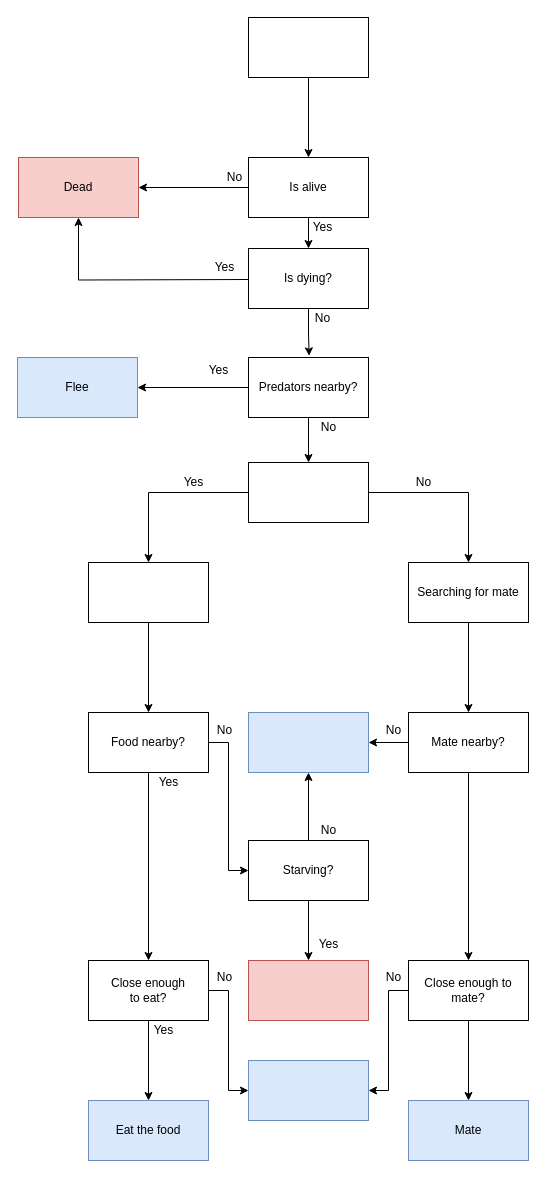
The diagram is 546 pixels wide and 1178 high, and some of its shapes have lost their labels. The centre of each missing label's shape, as x and y in pixels:
"Dying" goes at (308,990).
"Freeroam" goes at (308,742).
"Hunting" goes at (148,592).
"Is hungry?" goes at (308,492).
"Move towards" goes at (308,1090).
"Round Start" goes at (308,47).
